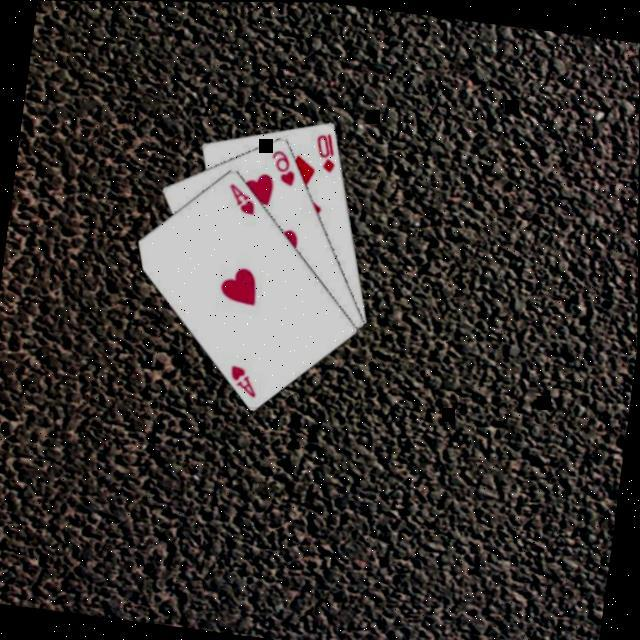10D: (312, 129, 342, 176)
6H: (267, 146, 303, 188)
AH: (225, 179, 263, 219), (226, 362, 264, 400)
